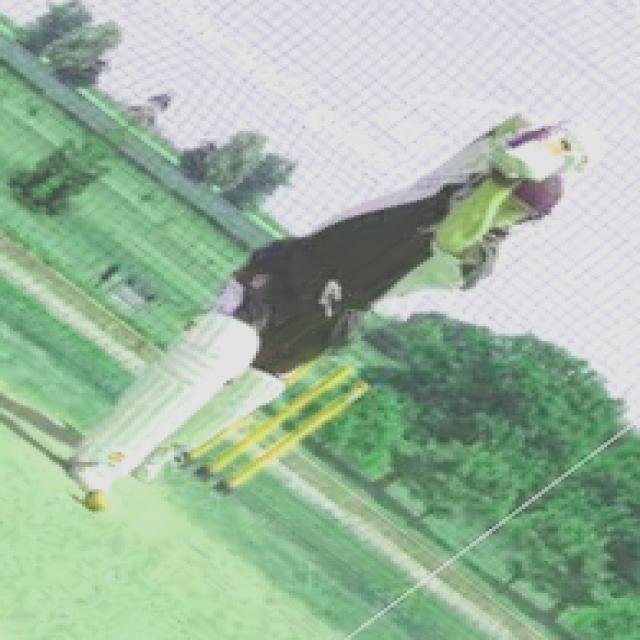toe: (496, 144, 550, 182)
